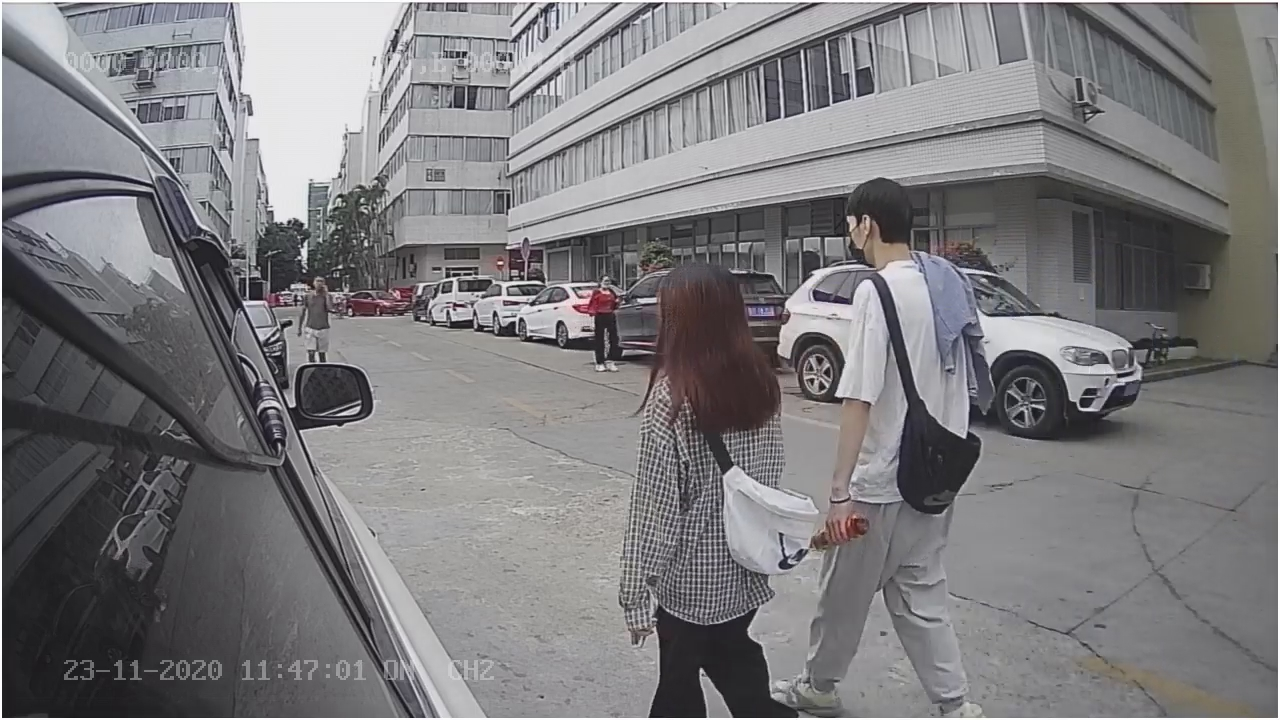person: (767, 141, 992, 715)
